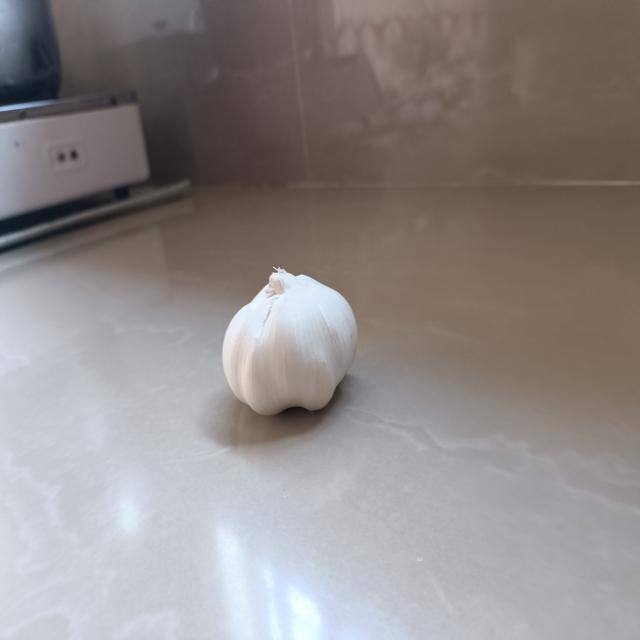garlic: (219, 261, 363, 415)
